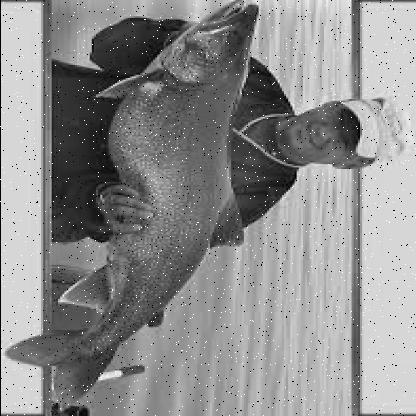fish: (12, 0, 274, 410)
